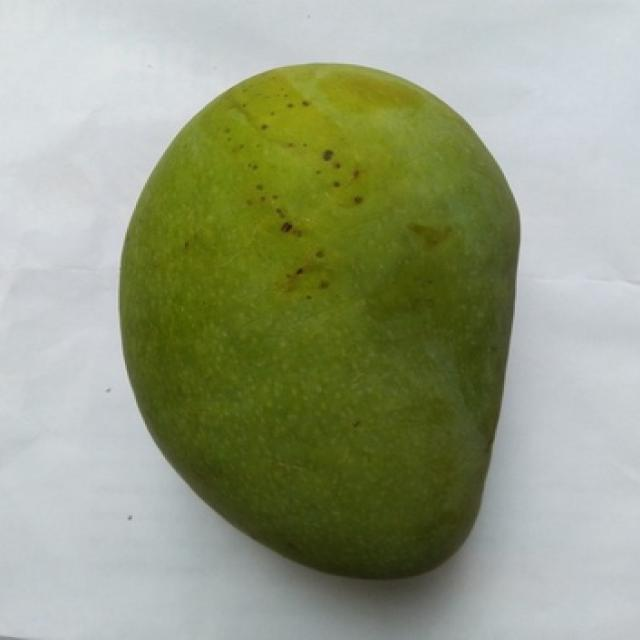Mango: (121, 64, 517, 576)
